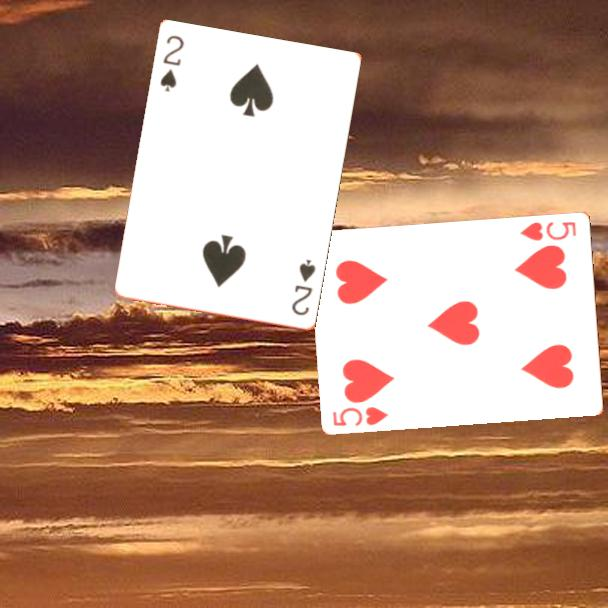h05: (330, 403, 391, 429), (517, 218, 579, 243)
s02: (288, 256, 319, 319), (157, 32, 187, 95)
